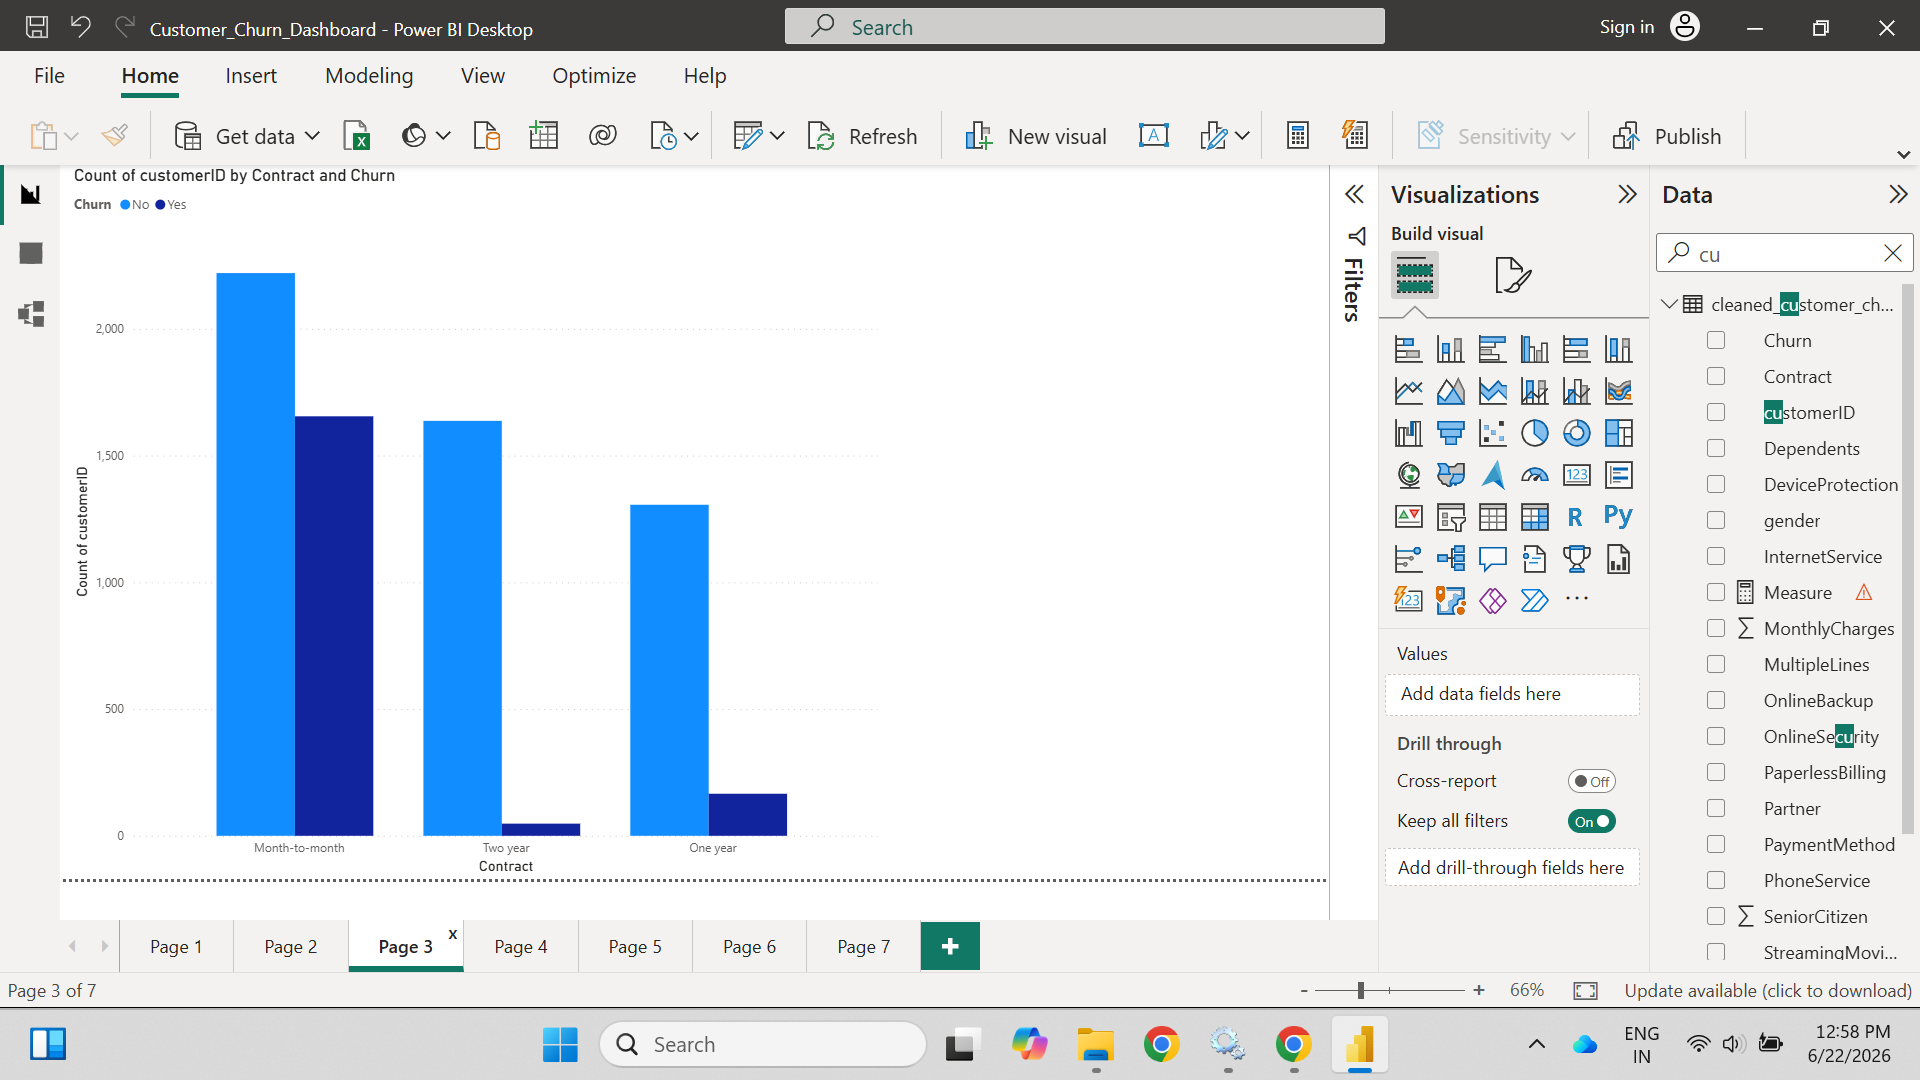

This screenshot's page, from the dashboard's own definition file:
{"tool":"powerbi","page":{"name":"Page 3","canvas":[1280,720],"ordinal":2},"visuals":[{"type":"clusteredColumnChart","fields":{"Category":["cleaned_customer_churn.Contract"],"Y":["CountNonNull(cleaned_customer_churn.customerID)"],"Series":["cleaned_customer_churn.Churn"]},"box":[9.4,0,821.2,719.3],"z":0}]}

Visuals, with their boxes on the page's 1280x720 design canvas (x1, y1, x2, y2). These are canvas units, not pixel positions in the 1920x1080 screenshot, which may show the page scaled, cropped or inside an application window:
clusteredColumnChart - cleaned_customer_churn.Contract x CountNonNull(cleaned_customer_churn.customerID): x1=9, y1=0, x2=831, y2=719
